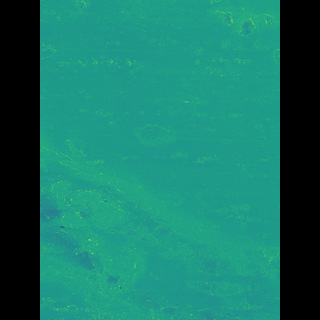Loch: (71, 132, 250, 320)
